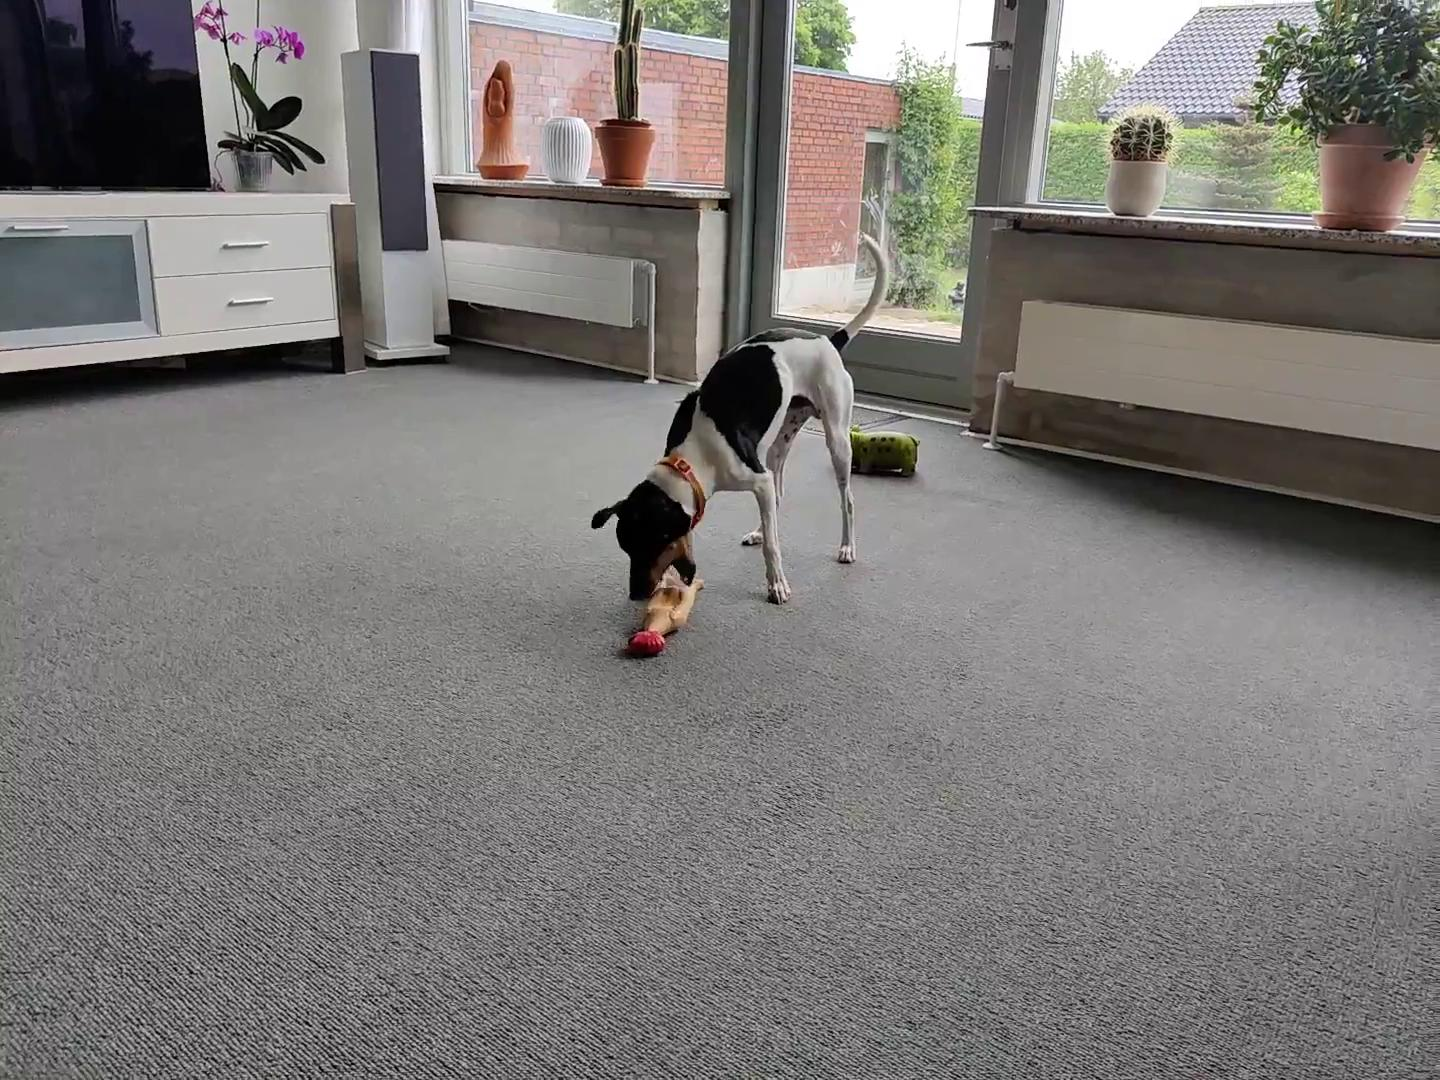Dog: (584, 228, 892, 607)
